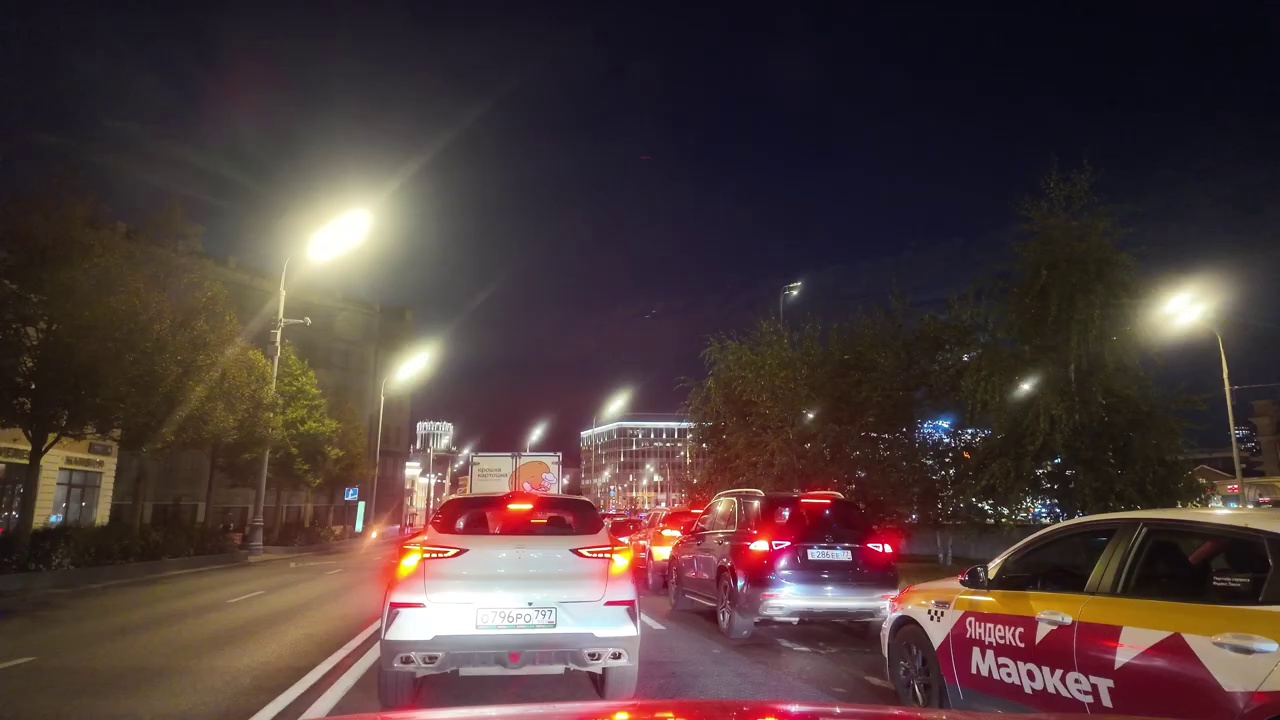acesa: (302, 206, 376, 271), (1148, 281, 1218, 341), (382, 341, 437, 393), (594, 385, 632, 428)
